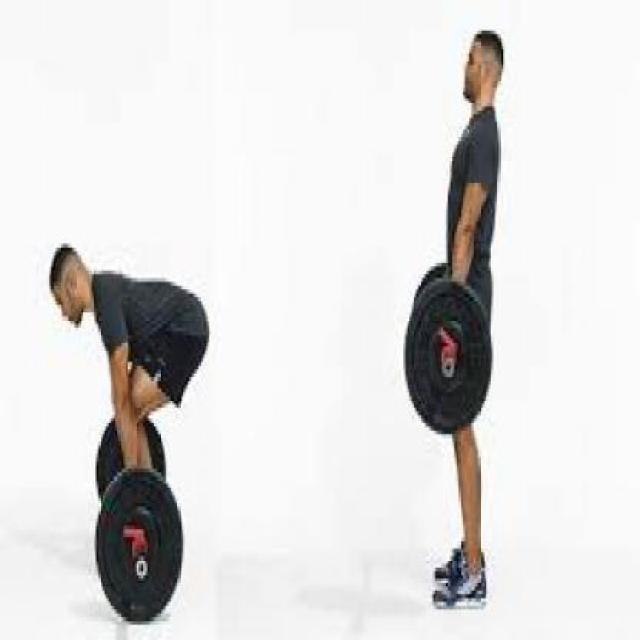barbell: (401, 273, 497, 437), (93, 464, 187, 630)
